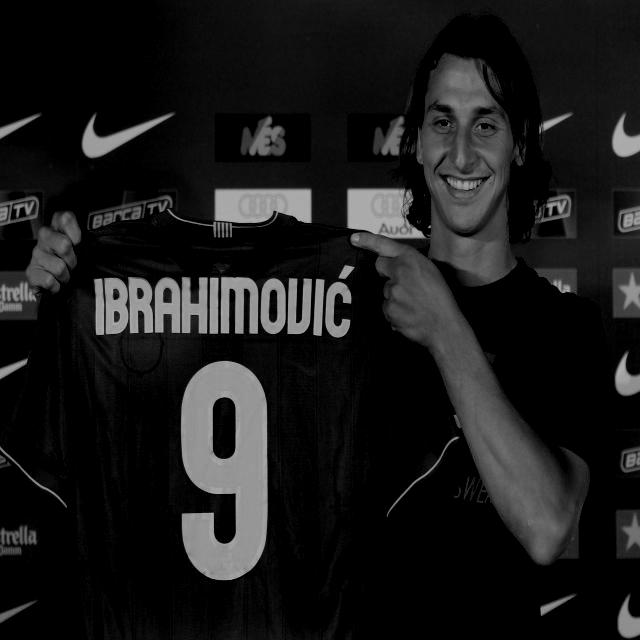real: (418, 52, 518, 238)
